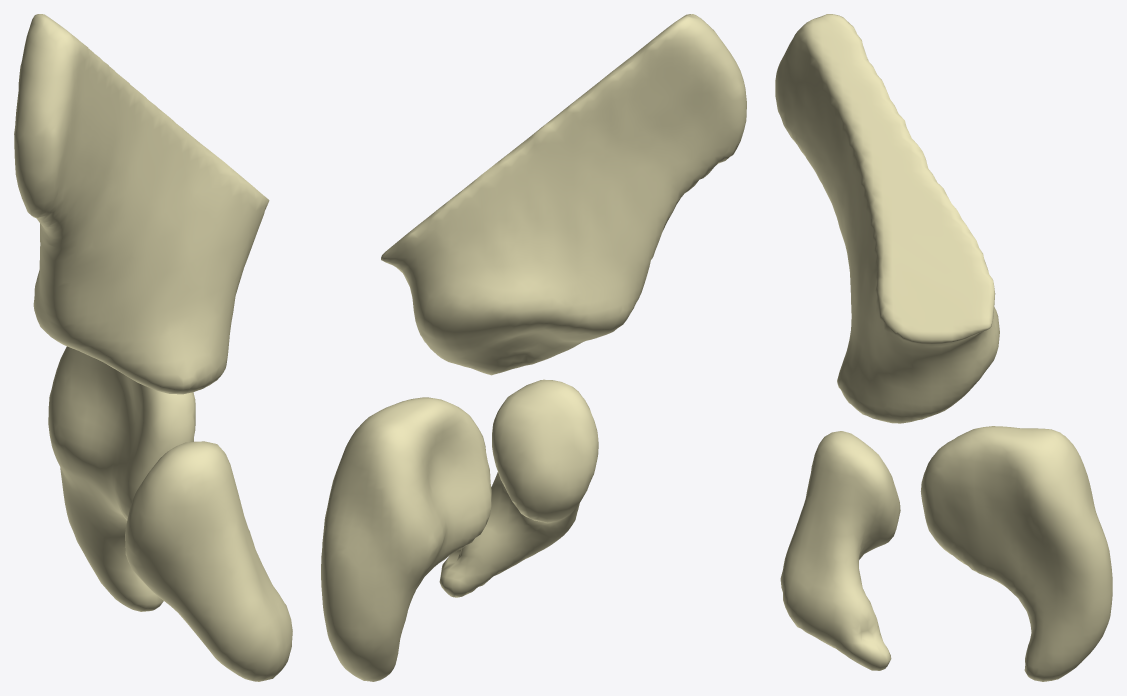
Rendered from Pat2_Mav_RightIliumLower.fbx.
3 views of the same model, side by side, from view 1: azimuth 30°, elevation 25°; view 2: azimuth 150°, elevation 25°; view 3: azimuth 270°, elevation 25° (orthographic). The views are drawn at different scales.
Parts seen in each view (by area): view 1: sm_RightIlium_LowerPart; view 2: sm_RightIlium_LowerPart; view 3: sm_RightIlium_LowerPart.
Boxes of the visible parts, left/top/right/bottom form: sm_RightIlium_LowerPart: left=14, top=14, right=292, bottom=681; sm_RightIlium_LowerPart: left=321, top=14, right=746, bottom=681; sm_RightIlium_LowerPart: left=775, top=14, right=1112, bottom=681.
Size of the model in its own units: 28.64 by 63.2 by 33.53.
